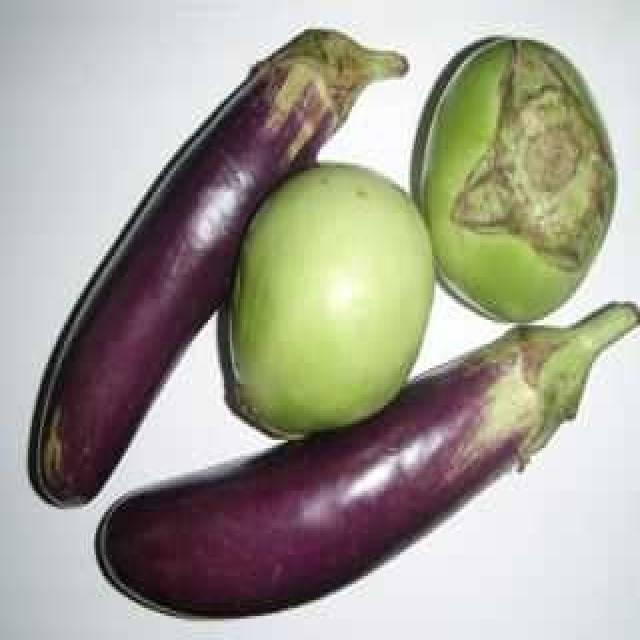Eggplant-r1Ob: (29, 30, 408, 506)
